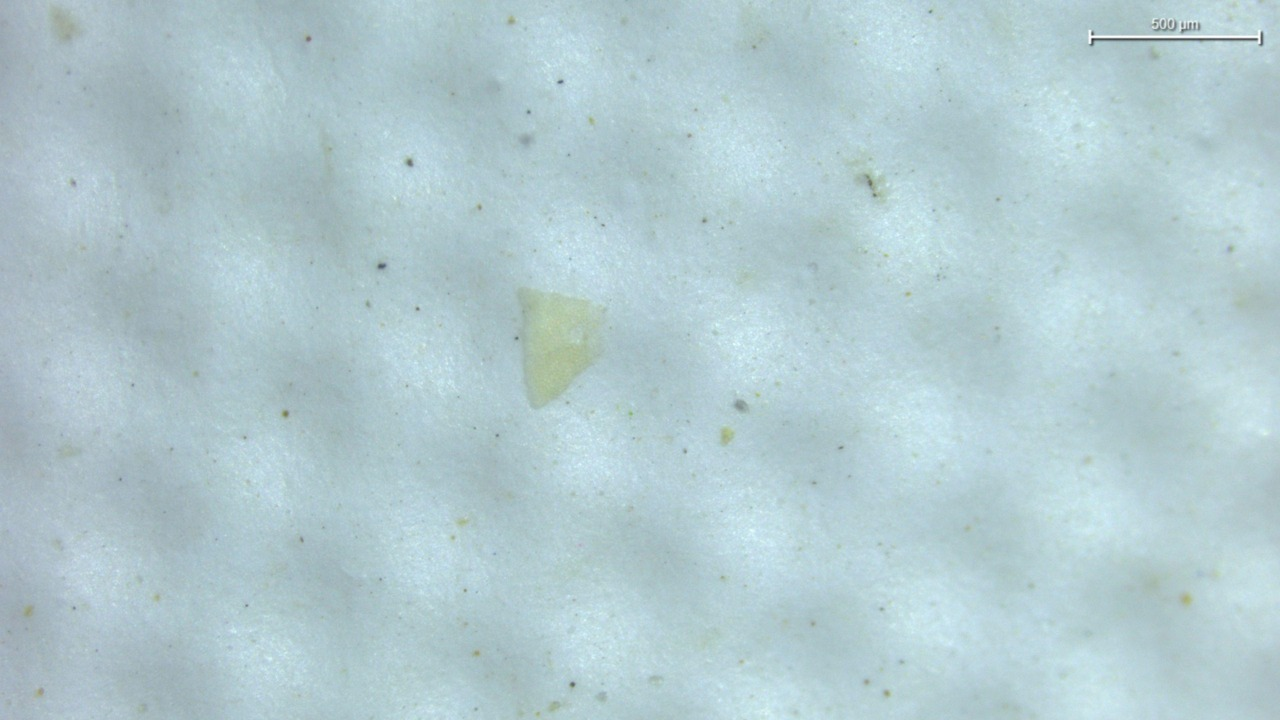microplastic_fragment: (519, 288, 604, 408)
